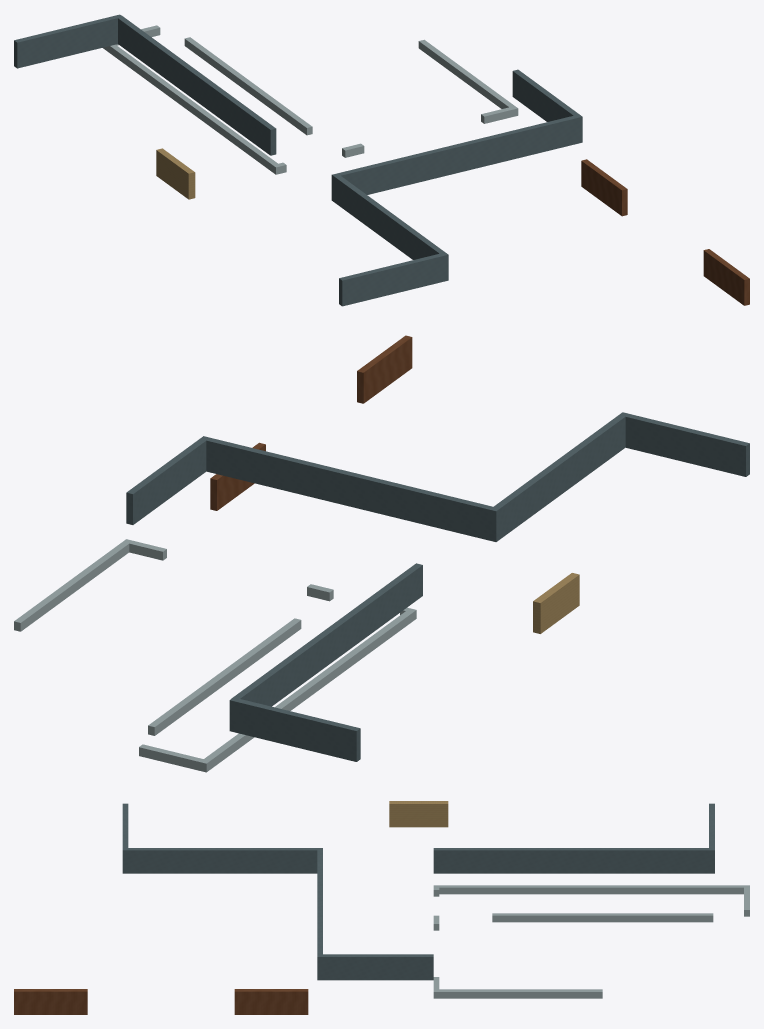
Rendered from D04_COMMONS_CEILING_JUNCTIONS_r002.glb.
3 views of the same model, one above another, from view 1: azimuth 30°, elevation 25°; view 2: azimuth 150°, elevation 25°; view 3: azimuth 270°, elevation 25° (orthographic). The views are drawn at different scales.
Visible parts, largest first — view 1: CCJ_Cap3_PCR_FrontGuestBoundary, CCJ_Cap6_PCR_RearSouthBoundary, CCJ_Cap2_PCR_RearNorthEnd, CCJ_Cap0_PCR_RearQuietBoundary, CCJ_Cap1_PCR_RearSouthEnd, CCJ_Cap9_PCC_ServiceWest, CCJ_Cap12_PCC_ServiceDivider, CCJ_Cap4_PCR_EastGuestBoundary, CCJ_Cap8_PCC_QuietScreenBack, CCJ_Cap7_PCC_QuietScreen, CCJ_Cap10_PCC_ServiceEast, CCJ_Cap5_PCR_RearPortalHeader; view 2: CCJ_Cap3_PCR_FrontGuestBoundary, CCJ_Cap6_PCR_RearSouthBoundary, CCJ_Cap0_PCR_RearQuietBoundary, CCJ_Cap1_PCR_RearSouthEnd, CCJ_Cap2_PCR_RearNorthEnd, CCJ_Cap4_PCR_EastGuestBoundary, CCJ_Cap9_PCC_ServiceWest, CCJ_Cap12_PCC_ServiceDivider, CCJ_Cap8_PCC_QuietScreenBack, CCJ_Cap10_PCC_ServiceEast, CCJ_Cap5_PCR_RearPortalHeader, CCJ_Cap7_PCC_QuietScreen (+1 smaller); view 3: CCJ_Cap6_PCR_RearSouthBoundary, CCJ_Cap0_PCR_RearQuietBoundary, CCJ_Cap9_PCC_ServiceWest, CCJ_Cap4_PCR_EastGuestBoundary, CCJ_Cap12_PCC_ServiceDivider, CCJ_Cap7_PCC_QuietScreen, CCJ_Cap8_PCC_QuietScreenBack, CCJ_Cap10_PCC_ServiceEast, CCJ_Cap5_PCR_RearPortalHeader, CCJ_Cap3_PCR_FrontGuestBoundary, CCJ_Cap2_PCR_RearNorthEnd.
Part boxes in pixels (box(x1,y1,x2,y2)): CCJ_Cap3_PCR_FrontGuestBoundary: box(331, 115, 582, 196); CCJ_Cap6_PCR_RearSouthBoundary: box(116, 15, 276, 155); CCJ_Cap2_PCR_RearNorthEnd: box(339, 252, 448, 306); CCJ_Cap0_PCR_RearQuietBoundary: box(331, 173, 446, 259); CCJ_Cap1_PCR_RearSouthEnd: box(14, 14, 122, 68); CCJ_Cap9_PCC_ServiceWest: box(103, 44, 281, 174); CCJ_Cap12_PCC_ServiceDivider: box(184, 37, 312, 135); CCJ_Cap4_PCR_EastGuestBoundary: box(512, 69, 582, 139); CCJ_Cap8_PCC_QuietScreenBack: box(703, 249, 749, 305); CCJ_Cap7_PCC_QuietScreen: box(581, 159, 627, 216); CCJ_Cap10_PCC_ServiceEast: box(418, 39, 518, 116); CCJ_Cap5_PCR_RearPortalHeader: box(156, 148, 195, 199); CCJ_Cap3_PCR_FrontGuestBoundary: box(200, 436, 500, 541); CCJ_Cap6_PCR_RearSouthBoundary: box(231, 563, 422, 706); CCJ_Cap0_PCR_RearQuietBoundary: box(489, 413, 627, 541); CCJ_Cap1_PCR_RearSouthEnd: box(229, 697, 360, 761); CCJ_Cap2_PCR_RearNorthEnd: box(621, 412, 749, 476); CCJ_Cap4_PCR_EastGuestBoundary: box(126, 436, 206, 524); CCJ_Cap9_PCC_ServiceWest: box(199, 608, 416, 772); CCJ_Cap12_PCC_ServiceDivider: box(148, 618, 301, 735); CCJ_Cap8_PCC_QuietScreenBack: box(357, 335, 412, 403); CCJ_Cap10_PCC_ServiceEast: box(14, 539, 132, 631); CCJ_Cap5_PCR_RearPortalHeader: box(533, 573, 579, 633); CCJ_Cap7_PCC_QuietScreen: box(210, 442, 265, 510); CCJ_Cap6_PCR_RearSouthBoundary: box(433, 848, 713, 873); CCJ_Cap0_PCR_RearQuietBoundary: box(124, 848, 322, 873); CCJ_Cap9_PCC_ServiceWest: box(433, 885, 749, 894); CCJ_Cap4_PCR_EastGuestBoundary: box(317, 954, 433, 980); CCJ_Cap12_PCC_ServiceDivider: box(492, 913, 713, 922); CCJ_Cap7_PCC_QuietScreen: box(234, 989, 308, 1014); CCJ_Cap8_PCC_QuietScreenBack: box(14, 989, 87, 1014); CCJ_Cap10_PCC_ServiceEast: box(433, 989, 602, 998); CCJ_Cap5_PCR_RearPortalHeader: box(389, 801, 448, 827); CCJ_Cap3_PCR_FrontGuestBoundary: box(317, 848, 322, 980); CCJ_Cap2_PCR_RearNorthEnd: box(122, 803, 128, 873).
Size of the model in its own units: 10.02 by 1.75 by 20.
Materials: 4 (3 with a texture image).
